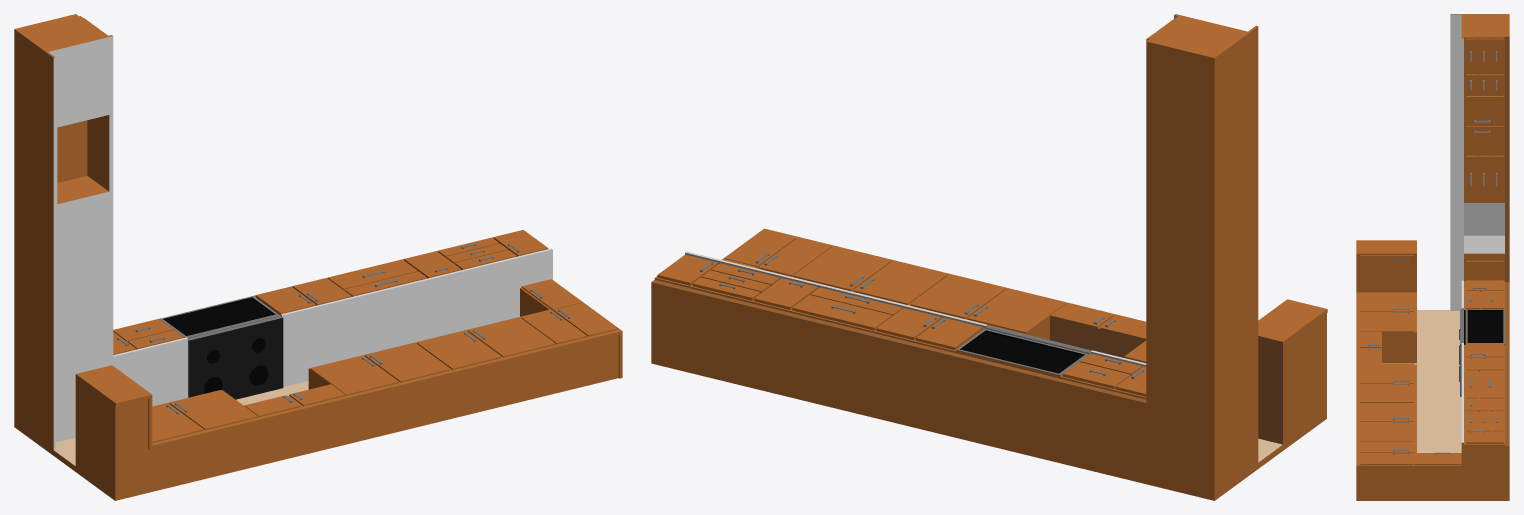
Rendered from cabinets.obj.
3 renders of one model, left to right at view 1: azimuth 30°, elevation 25°; view 2: azimuth 150°, elevation 25°; view 3: azimuth 270°, elevation 25°, orthographic. The views are drawn at different scales.
Visible parts, largest first — view 1: mesh38, mesh17, mesh41, mesh57, mesh2, mesh42, mesh211, mesh25, mesh91, mesh126, mesh267, mesh285 (+18 smaller); view 2: mesh27, mesh41, mesh44, mesh25, mesh91, mesh267, mesh285, mesh110, mesh276, mesh240, mesh28, mesh43 (+13 smaller); view 3: mesh34, mesh68, mesh18, mesh101, mesh211, mesh421, mesh32, mesh29, mesh25, mesh91, mesh64, mesh267 (+43 smaller).
Boxes of the visible parts, x1,y1,x2,y2 form: mesh38: [115, 335, 618, 500]; mesh17: [49, 36, 187, 442]; mesh41: [14, 29, 115, 500]; mesh57: [282, 249, 552, 386]; mesh2: [189, 318, 283, 399]; mesh42: [116, 331, 622, 449]; mesh211: [152, 280, 621, 445]; mesh25: [15, 14, 112, 57]; mesh91: [165, 299, 273, 335]; mesh126: [170, 390, 257, 428]; mesh267: [311, 355, 398, 394]; mesh285: [468, 317, 555, 356]; mesh27: [651, 41, 1214, 500]; mesh41: [1214, 26, 1327, 500]; mesh44: [1258, 336, 1282, 444]; mesh25: [1146, 14, 1257, 57]; mesh91: [962, 332, 1082, 373]; mesh267: [968, 289, 1065, 332]; mesh285: [793, 246, 890, 289]; mesh110: [1050, 315, 1146, 357]; mesh276: [911, 275, 1004, 317]; mesh240: [854, 261, 946, 303]; mesh28: [651, 280, 1146, 402]; mesh43: [1258, 299, 1327, 341]; mesh34: [1356, 442, 1509, 500]; mesh68: [1382, 310, 1461, 452]; mesh18: [1450, 14, 1461, 310]; mesh101: [1360, 256, 1413, 291]; mesh211: [1356, 292, 1461, 465]; mesh421: [1464, 37, 1504, 202]; mesh32: [1464, 203, 1504, 235]; mesh29: [1505, 36, 1509, 281]; mesh25: [1450, 14, 1509, 38]; mesh91: [1467, 311, 1503, 342]; mesh64: [1360, 331, 1416, 363]; mesh267: [1360, 363, 1413, 383].
Size of the model in its own units: 0.263 by 0.1975 by 0.0914.
